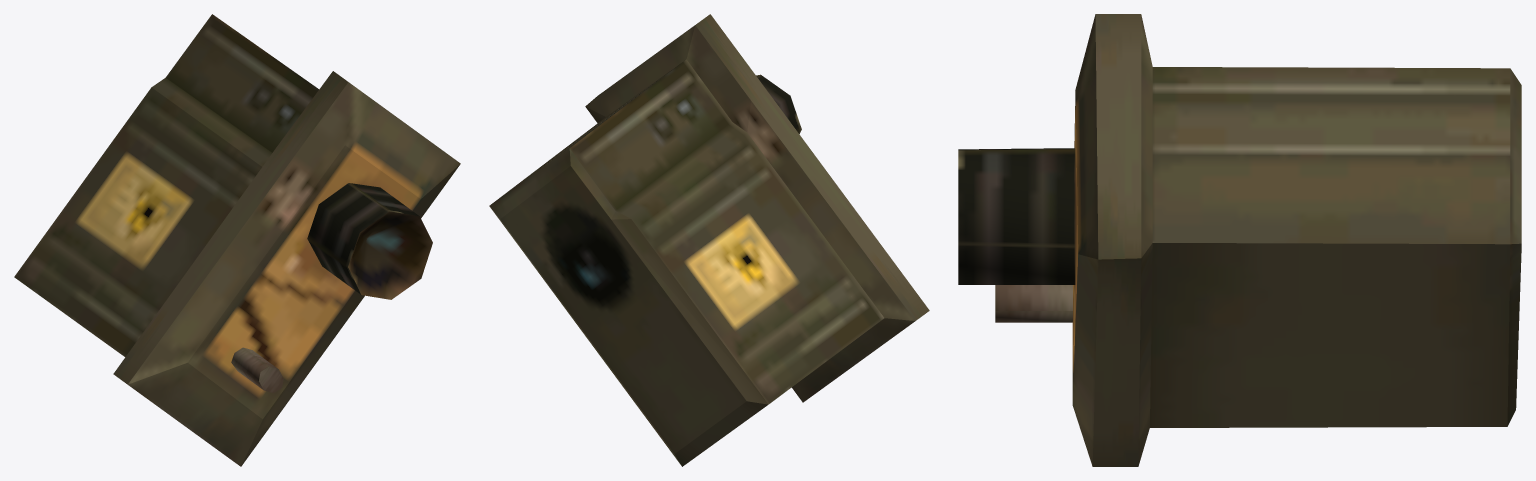
Rendered from LaserDesignator.glb.
3 views of the same model, side by side, from view 1: azimuth 30°, elevation 25°; view 2: azimuth 150°, elevation 25°; view 3: azimuth 270°, elevation 25° (orthographic). The views are drawn at different scales.
Visible parts, largest first — view 1: LASERDESIGNATOR; view 2: LASERDESIGNATOR; view 3: LASERDESIGNATOR.
Boxes of the visible parts, x1,y1,x2,y2 form: LASERDESIGNATOR: [14, 14, 460, 466]; LASERDESIGNATOR: [489, 14, 929, 466]; LASERDESIGNATOR: [958, 14, 1521, 466].
Size of the model in its own units: 0.201 by 0.205 by 0.197.
Materials: 1 (1 with a texture image).
